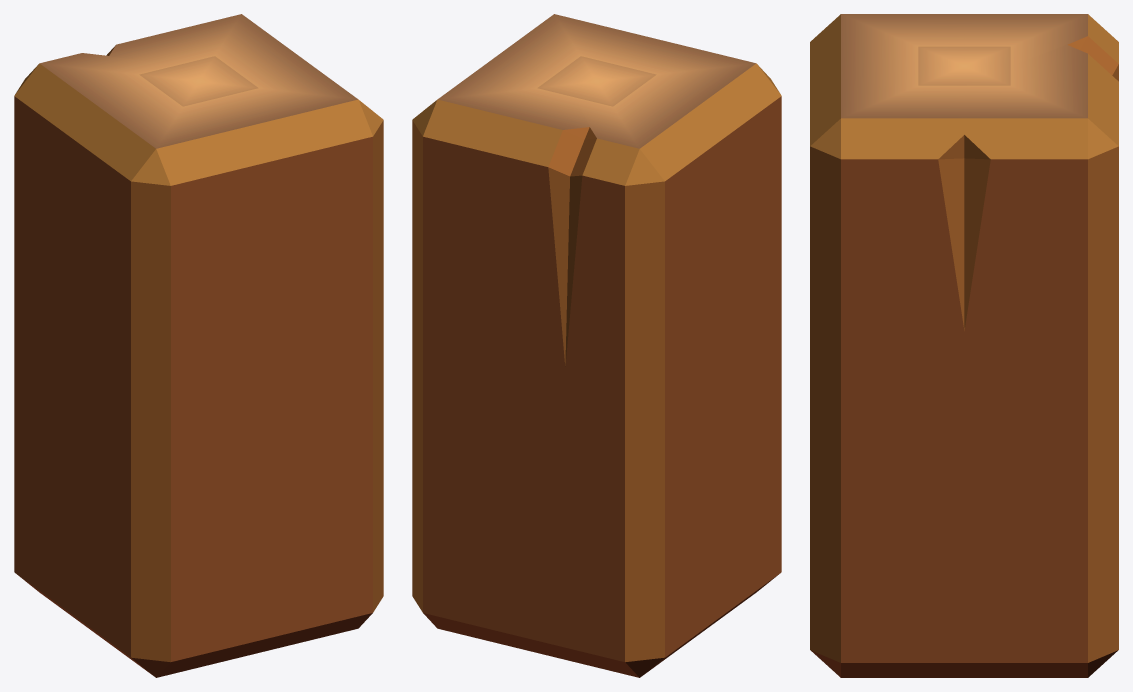
Rendered from m_kub_wood_vrick.FBX.
3 renders of one model, left to right at view 1: azimuth 30°, elevation 25°; view 2: azimuth 150°, elevation 25°; view 3: azimuth 270°, elevation 25°, orthographic. The views are drawn at different scales.
Parts seen in each view (by area): view 1: m_kub_wood_vrick; view 2: m_kub_wood_vrick; view 3: m_kub_wood_vrick.
Boxes of the visible parts, box(x1,y1,x2,y2) form: m_kub_wood_vrick: box(14, 14, 383, 677); m_kub_wood_vrick: box(412, 14, 781, 677); m_kub_wood_vrick: box(810, 14, 1118, 677).
Bounding box in the file's own units: 1 × 2 × 1.
